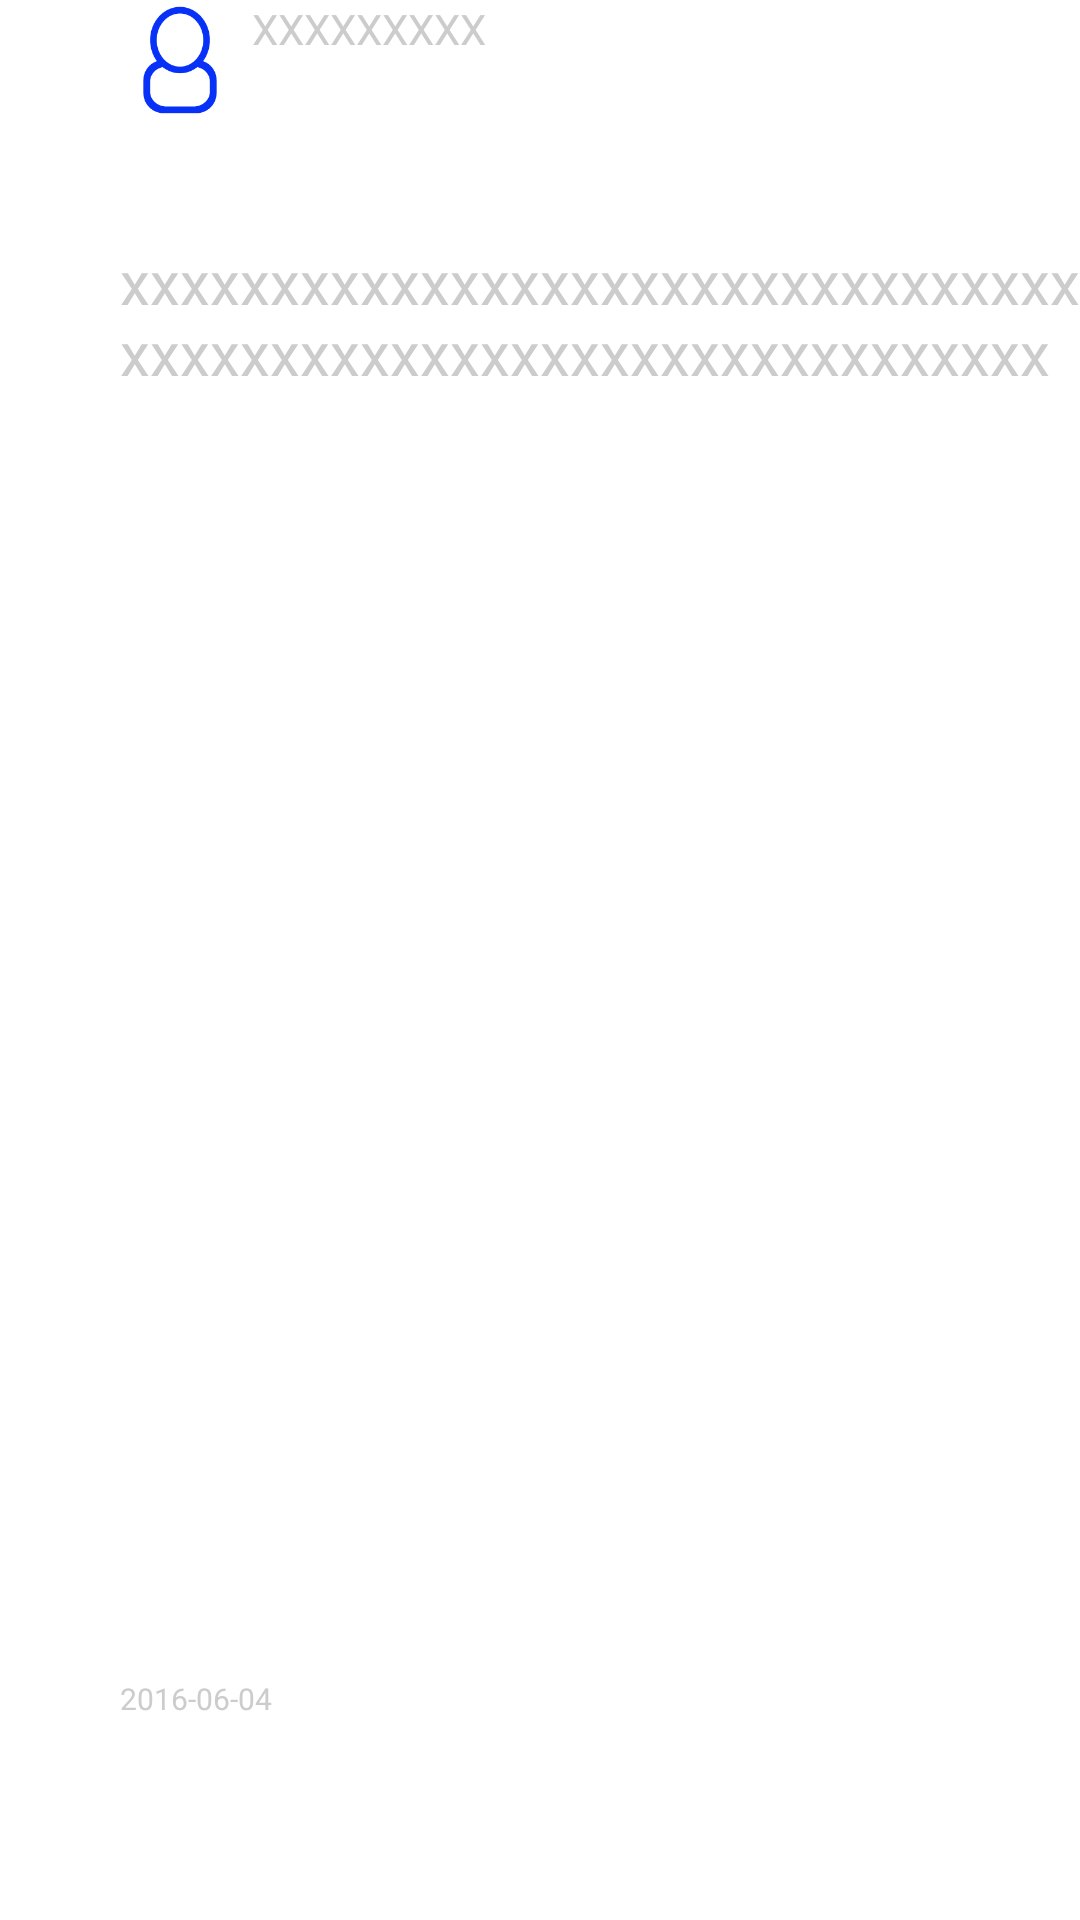

Icon bounding boxes for this 1080×1920 phone screenshot, format (x1, y1, x2, y2):
username: (143, 6, 217, 114)
